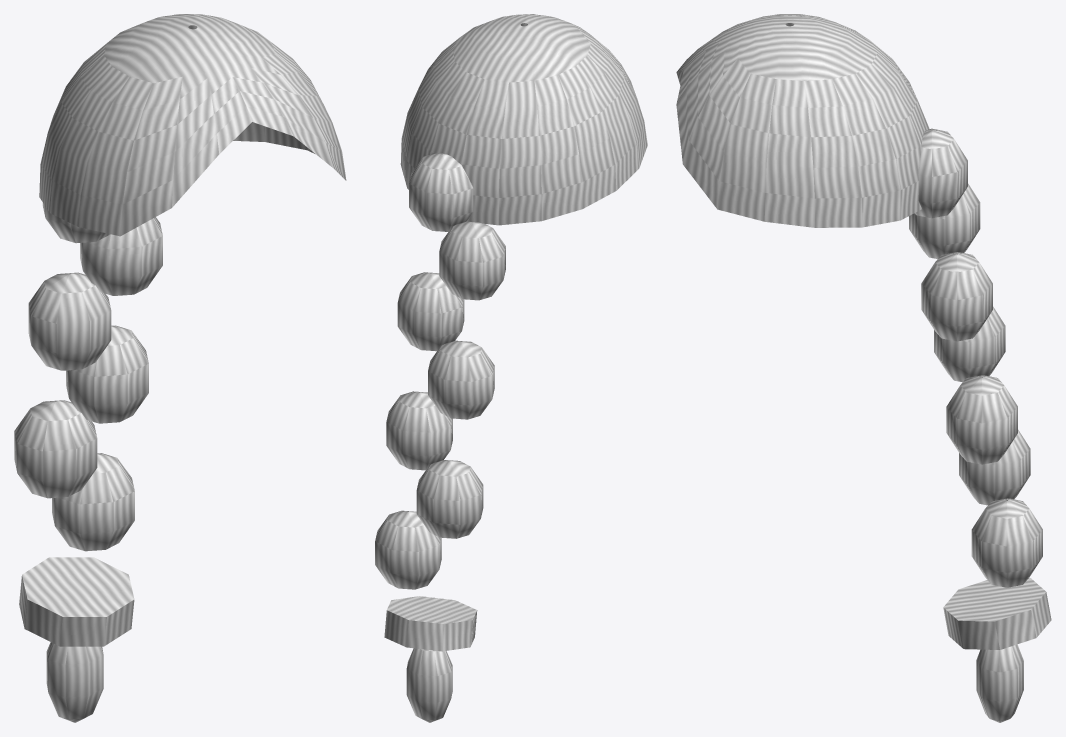
Rendered from hair_braid.glb.
3 renders of one model, left to right at view 1: azimuth 30°, elevation 25°; view 2: azimuth 150°, elevation 25°; view 3: azimuth 270°, elevation 25°, orthographic. The views are drawn at different scales.
Visible parts, largest first — view 1: hair_braid; view 2: hair_braid; view 3: hair_braid.
Boxes of the visible parts, box(x1,y1,x2,y2) form: hair_braid: box(14, 14, 346, 722); hair_braid: box(375, 14, 647, 722); hair_braid: box(676, 14, 1051, 722).
Size of the model in its own units: 0.254 by 0.7369 by 0.3589.
1 material, 1 textured.
